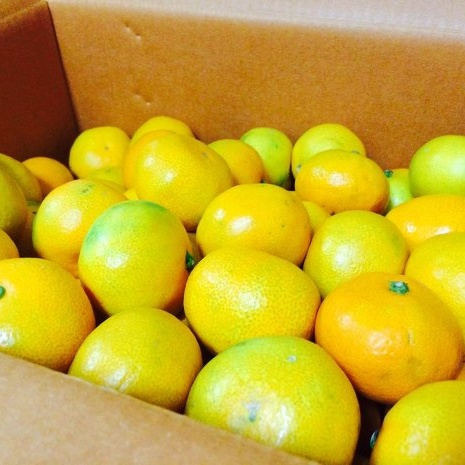mandarin: (186, 338, 361, 465), (314, 271, 459, 402), (183, 244, 319, 357), (65, 307, 201, 410), (78, 201, 193, 316), (1, 256, 98, 371), (196, 183, 312, 269), (302, 209, 411, 300), (31, 182, 135, 277), (126, 130, 233, 217), (369, 378, 465, 463), (296, 151, 390, 224), (404, 228, 465, 339), (384, 192, 465, 253), (292, 124, 366, 184), (70, 124, 133, 187), (238, 126, 292, 190), (409, 134, 465, 194), (208, 139, 263, 186), (1, 157, 31, 236), (24, 156, 71, 190)
